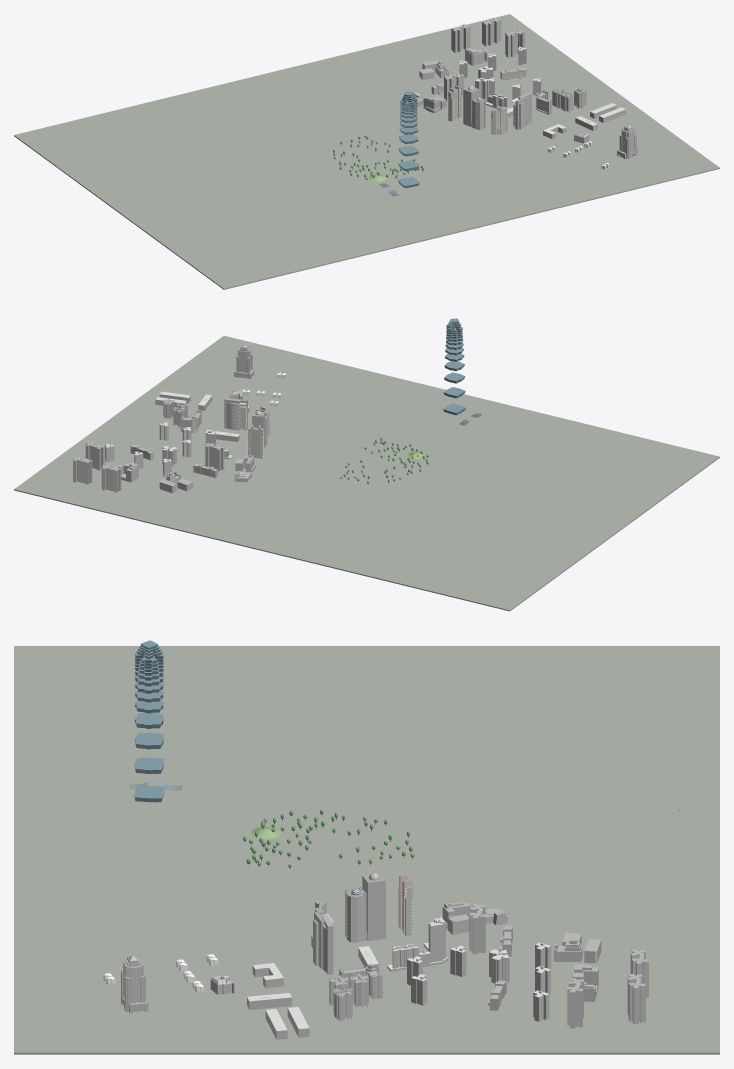
File: lujiazui-33.glb
The picture shows the model from 3 angles, top to bottom: view 1: azimuth 30°, elevation 25°; view 2: azimuth 150°, elevation 25°; view 3: azimuth 270°, elevation 25°; orthographic projection. The views are drawn at different scales.
Visible parts, largest first — view 1: experimental_ground_foundation_part0, source_6189_Mat3d66-1303573-560-2734_part0, source_6210_房4_part0, source_4862_Mat3d66-1303573-2178-3161_part0, source_6207_Mat3d66-1303573-11-3935_part0, source_4990_13区前排楼简模_xl_part0, source_4964_46_jz_part0; view 2: experimental_ground_foundation_part0, source_6189_Mat3d66-1303573-560-2734_part0, source_4862_Mat3d66-1303573-2178-3161_part0, source_6210_房4_part0, source_6207_Mat3d66-1303573-11-3935_part0, source_4964_46_jz_part0, source_6190_Mat3d66-1303573-561-717_part0, source_4990_13区前排楼简模_xl_part0; view 3: experimental_ground_foundation_part0, source_6210_房4_part0, source_4862_Mat3d66-1303573-2178-3161_part0, source_6189_Mat3d66-1303573-560-2734_part0, source_6207_Mat3d66-1303573-11-3935_part0, source_4990_13区前排楼简模_xl_part0, source_4964_46_jz_part0, source_6268_Mat3d66-1303573-631-826_part0, source_6190_Mat3d66-1303573-561-717_part0, source_6211_房1_part0, source_6243_Mat3d66-1303573-607-8344_part0, source_6244__part0 (+1 smaller).
Part boxes in pixels (box(x1,y1,x2,y2)): experimental_ground_foundation_part0: box(14, 14, 719, 289); source_6189_Mat3d66-1303573-560-2734_part0: box(444, 17, 525, 100); source_6210_房4_part0: box(459, 48, 626, 139); source_4862_Mat3d66-1303573-2178-3161_part0: box(380, 91, 419, 196); source_6207_Mat3d66-1303573-11-3935_part0: box(459, 46, 625, 134); source_4990_13区前排楼简模_xl_part0: box(552, 88, 586, 112); source_4964_46_jz_part0: box(617, 125, 637, 158); experimental_ground_foundation_part0: box(14, 335, 719, 611); source_6189_Mat3d66-1303573-560-2734_part0: box(73, 442, 224, 492); source_4862_Mat3d66-1303573-2178-3161_part0: box(443, 318, 481, 425); source_6210_房4_part0: box(105, 394, 249, 476); source_6207_Mat3d66-1303573-11-3935_part0: box(105, 391, 249, 462); source_4964_46_jz_part0: box(234, 344, 254, 378); source_6190_Mat3d66-1303573-561-717_part0: box(117, 374, 283, 486); source_4990_13区前排楼简模_xl_part0: box(163, 398, 187, 427); experimental_ground_foundation_part0: box(14, 646, 719, 1054); source_6210_房4_part0: box(247, 944, 551, 1039); source_4862_Mat3d66-1303573-2178-3161_part0: box(129, 640, 182, 802); source_6189_Mat3d66-1303573-560-2734_part0: box(469, 904, 648, 1028); source_6207_Mat3d66-1303573-11-3935_part0: box(247, 917, 550, 1030); source_4990_13区前排楼简模_xl_part0: box(329, 973, 368, 1022); source_4964_46_jz_part0: box(121, 955, 148, 1013); source_6268_Mat3d66-1303573-631-826_part0: box(362, 872, 385, 940); source_6190_Mat3d66-1303573-561-717_part0: box(105, 902, 600, 991); source_6211_房1_part0: box(428, 919, 509, 983); source_6243_Mat3d66-1303573-607-8344_part0: box(345, 886, 366, 942); source_6244__part0: box(315, 894, 364, 942).
Size of the model in its own units: 1800 by 388 by 1320.
